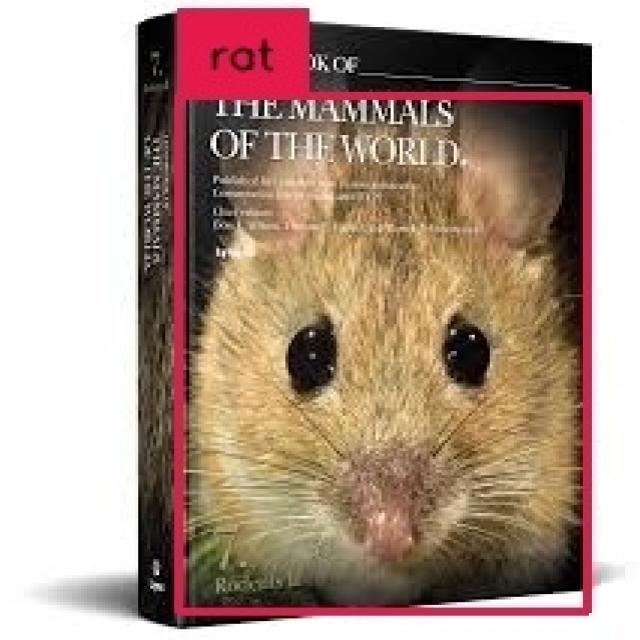rat: (180, 95, 589, 613)
